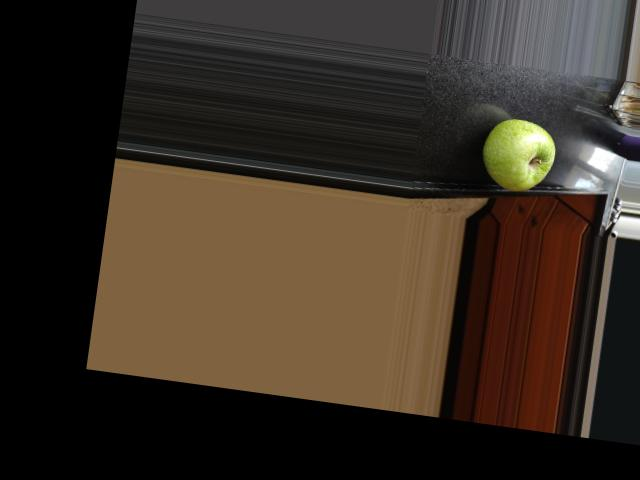apple: (473, 110, 563, 197)
